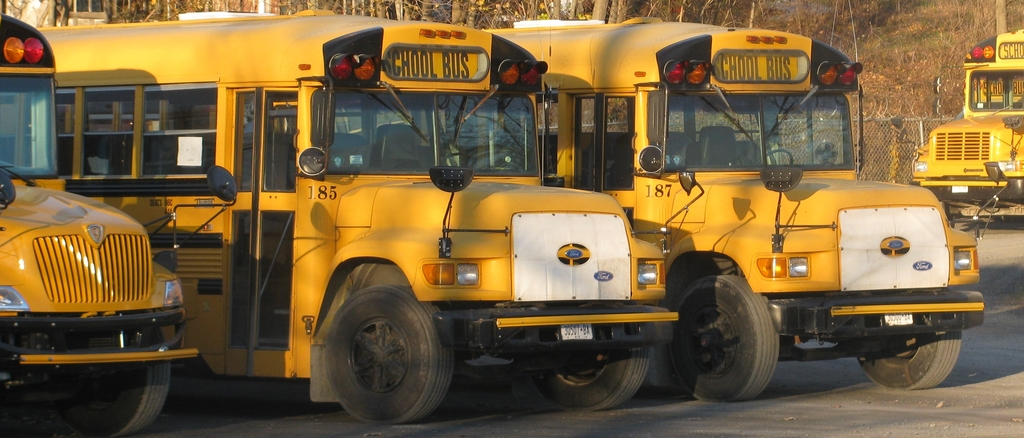Bus: (33, 7, 704, 423), (473, 13, 1015, 403), (0, 8, 240, 433), (885, 24, 1023, 213)
